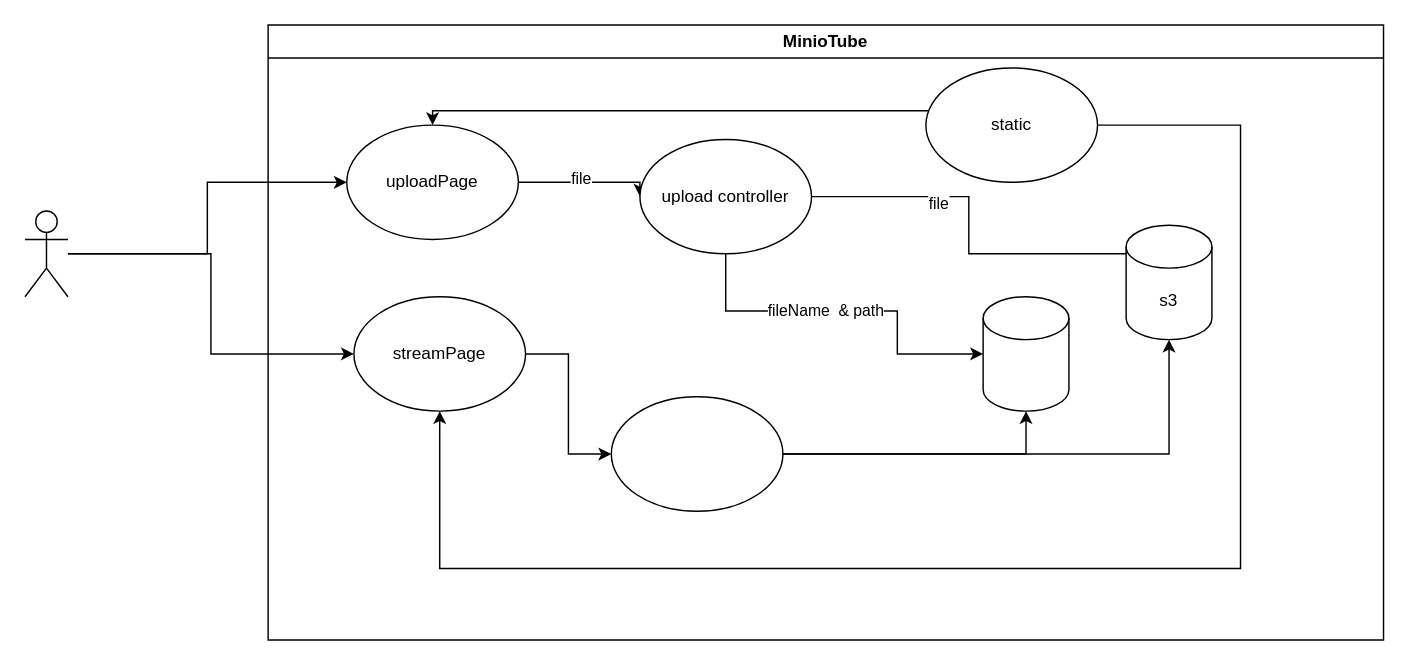
Image size: 1409x665. Some labels were removed from this diagram. The shapes that lost their labels are listed below. From the top down, each one's centre as x and y in pixels, then its label:
At point (46, 253): "Actor".
At point (1025, 353): "h2".
At point (696, 453): "streamController".
